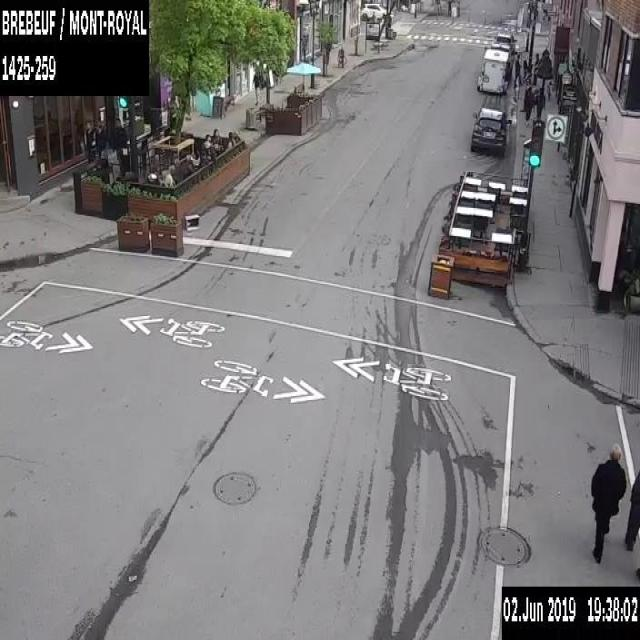pedestrian: (589, 441, 625, 564), (113, 115, 125, 173), (81, 119, 95, 164), (95, 118, 108, 164), (531, 49, 542, 90), (522, 84, 533, 125), (251, 66, 262, 106), (533, 85, 544, 125), (521, 50, 532, 86), (511, 50, 521, 86), (146, 167, 160, 183), (162, 171, 175, 186), (223, 131, 234, 146), (212, 127, 220, 142), (231, 128, 240, 140), (203, 134, 211, 147)
vehicle: (470, 104, 512, 153), (477, 45, 518, 95), (361, 1, 386, 19), (492, 32, 516, 47)
